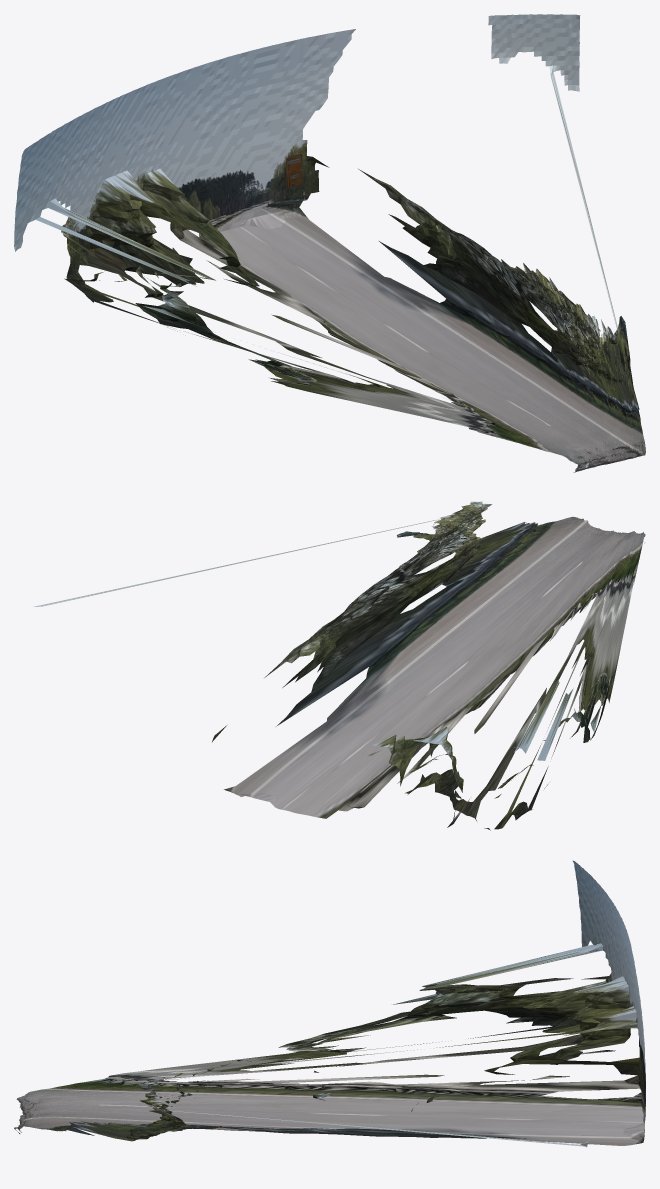
3 renders of one model, top to bottom at view 1: azimuth 30°, elevation 25°; view 2: azimuth 150°, elevation 25°; view 3: azimuth 270°, elevation 25°, orthographic. The views are drawn at different scales.
Visible parts, largest first — view 1: defaultobject; view 2: defaultobject; view 3: defaultobject.
Part boxes in pixels (<box>): defaultobject: <box>14,14,645,472</box>; defaultobject: <box>33,501,645,830</box>; defaultobject: <box>14,860,645,1147</box>.
Size of the model in its own units: 41.03 by 12.47 by 44.55.
1 material, 1 textured.
